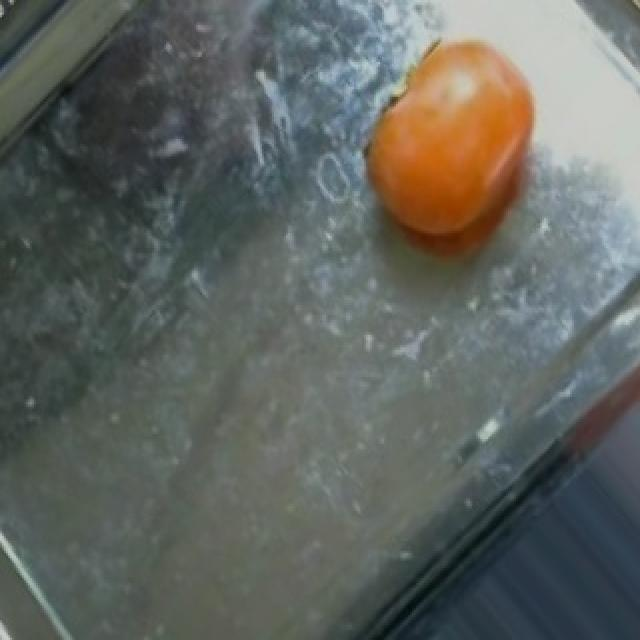Fruit: (338, 20, 568, 278)
